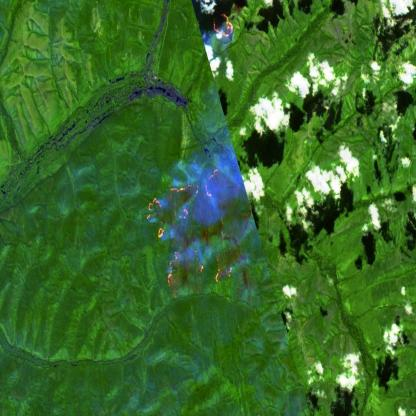fire: (142, 160, 251, 304), (212, 6, 235, 41)
